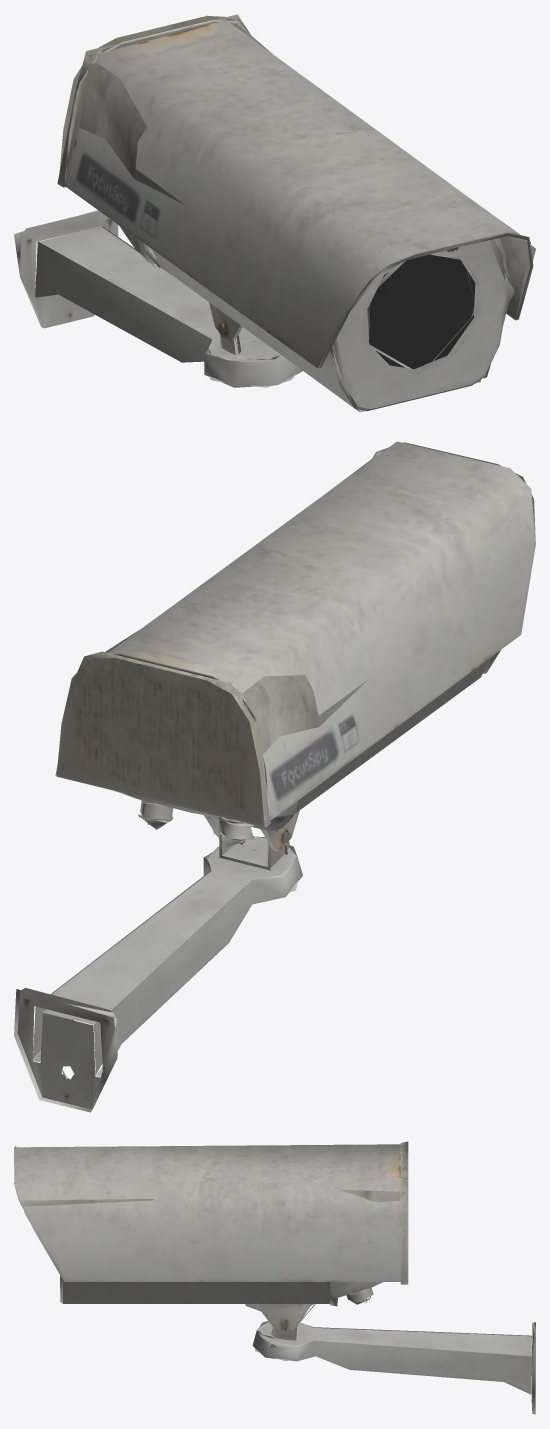
Rendered from security-camera.glb.
3 views of the same model, one above another, from view 1: azimuth 30°, elevation 25°; view 2: azimuth 150°, elevation 25°; view 3: azimuth 270°, elevation 25° (orthographic). The views are drawn at different scales.
Parts seen in each view (by area): view 1: security_camera_01; view 2: security_camera_01; view 3: security_camera_01.
Boxes of the visible parts, left/top/right/bottom form: security_camera_01: left=14, top=14, right=535, bottom=412; security_camera_01: left=14, top=441, right=535, bottom=1112; security_camera_01: left=14, top=1141, right=535, bottom=1414.
Size of the model in its own units: 0.2101 by 0.35 by 0.6786.
Materials: 2 (2 with a texture image).
